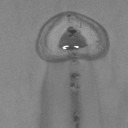slag inclusion: (34, 11, 110, 62), (69, 72, 82, 128)
